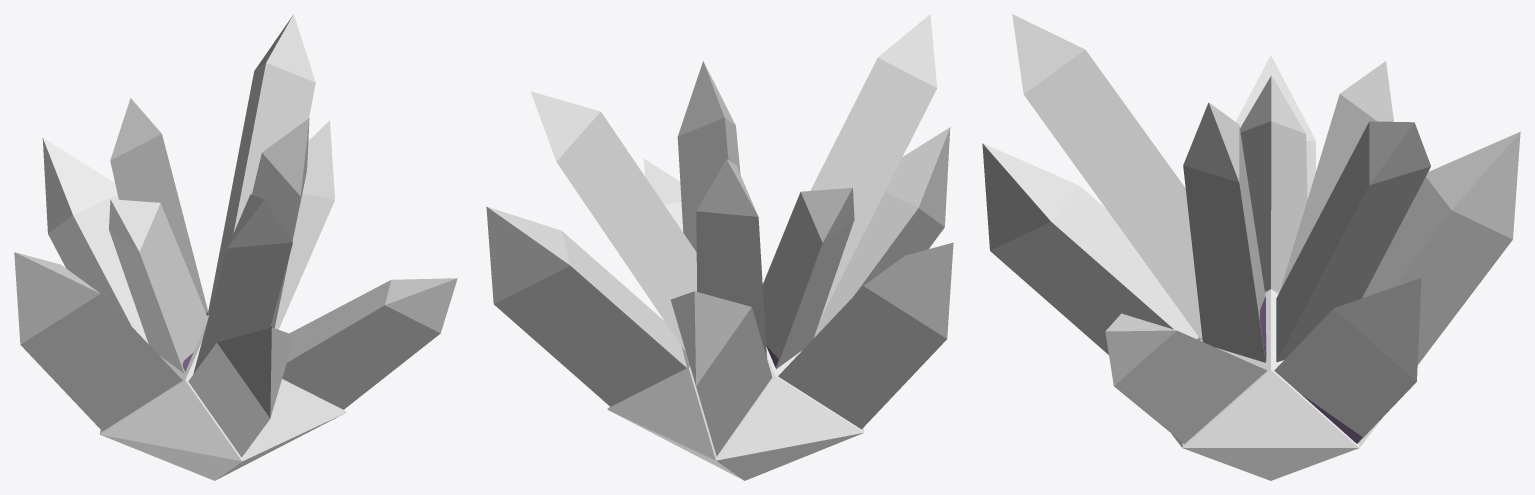
Rendered from resource__decoration__crystal__crystal-flower_3.fbx.
The picture shows the model from 3 angles, left to right: view 1: azimuth 30°, elevation 25°; view 2: azimuth 150°, elevation 25°; view 3: azimuth 270°, elevation 25°; orthographic projection. The views are drawn at different scales.
Parts seen in each view (by area): view 1: Crystal_Flower_3; view 2: Crystal_Flower_3; view 3: Crystal_Flower_3.
Part boxes in pixels (left/top/right/bottom): Crystal_Flower_3: left=14, top=14, right=457, bottom=480; Crystal_Flower_3: left=486, top=14, right=953, bottom=480; Crystal_Flower_3: left=982, top=14, right=1520, bottom=480.
Bounding box in the file's own units: 546 × 526 × 587.
